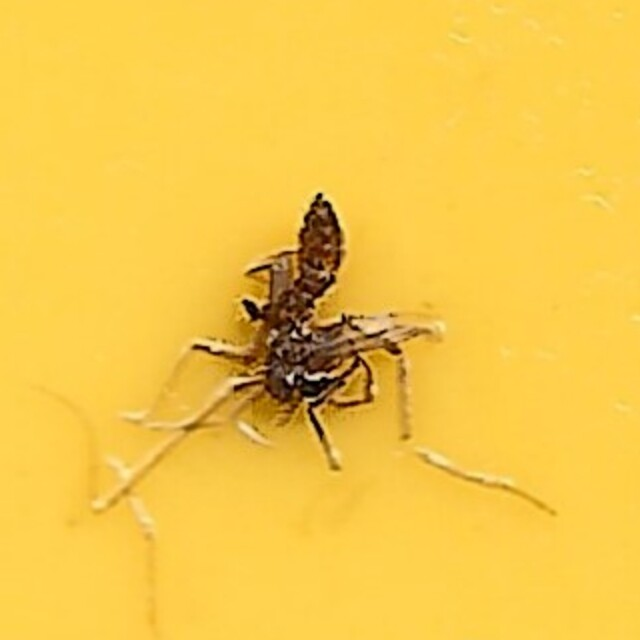Nematocera: (200, 193, 440, 447)
